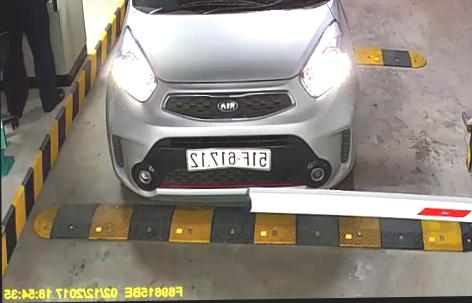License_Plate: (185, 142, 273, 182)
